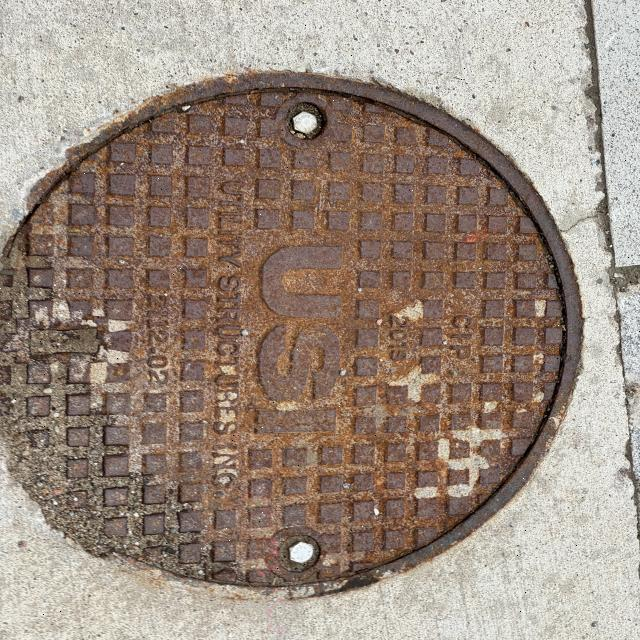Manhole: (6, 72, 584, 604)
